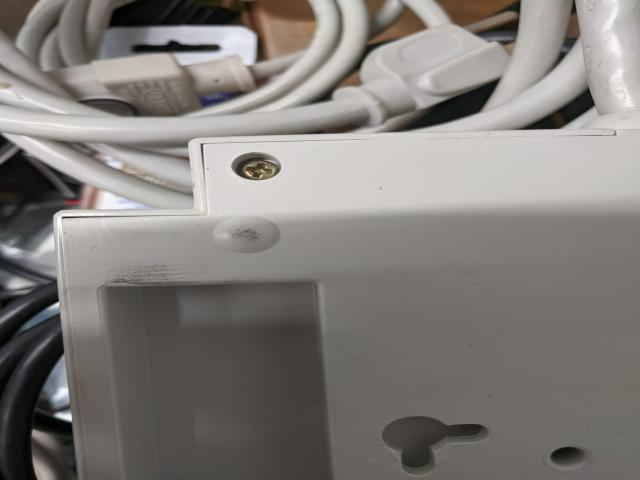CRS: (229, 156, 287, 184)
